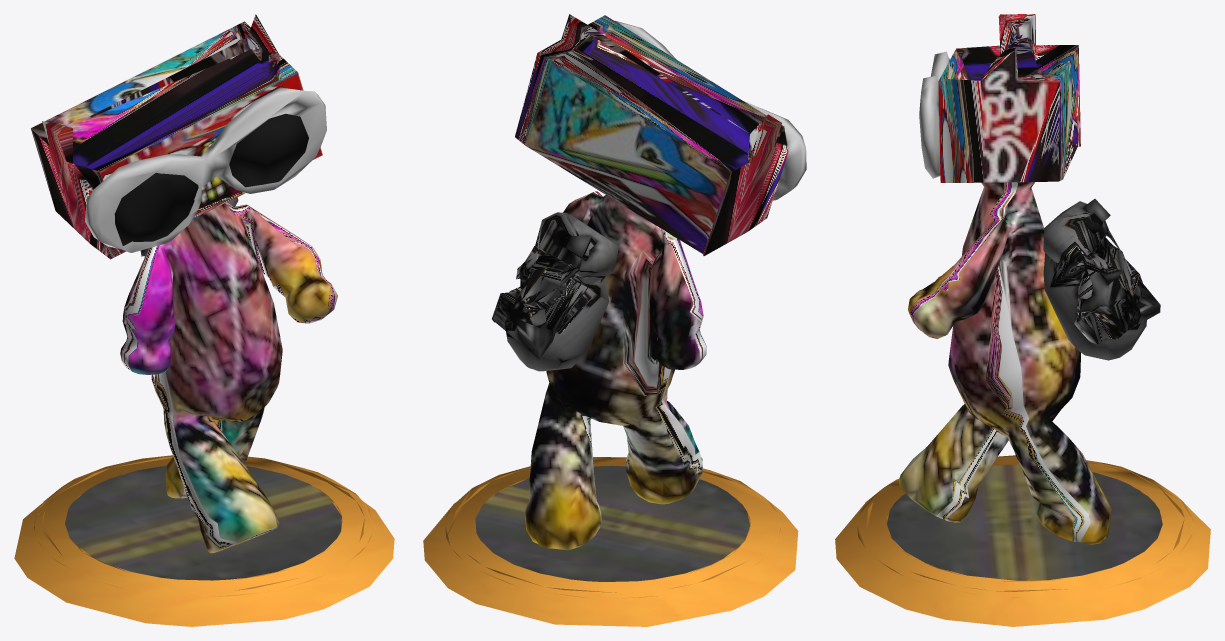
3 views of the same model, side by side, from view 1: azimuth 30°, elevation 25°; view 2: azimuth 150°, elevation 25°; view 3: azimuth 270°, elevation 25° (orthographic).
Size of the model in its own units: 1.44 by 2.18 by 1.43.
Materials: 8 (5 with a texture image).
